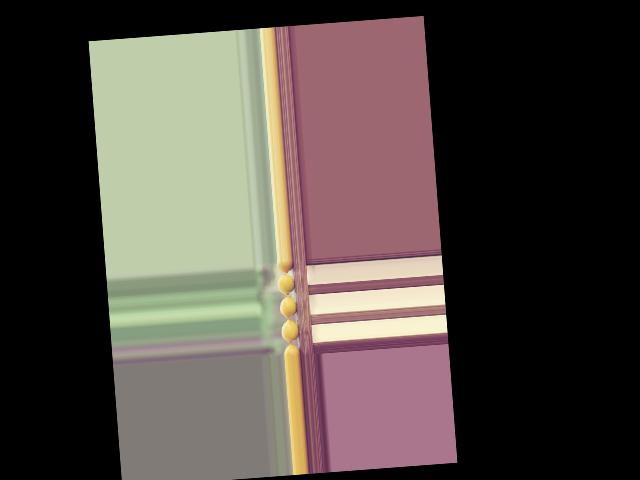lemon: (282, 343, 299, 356)
